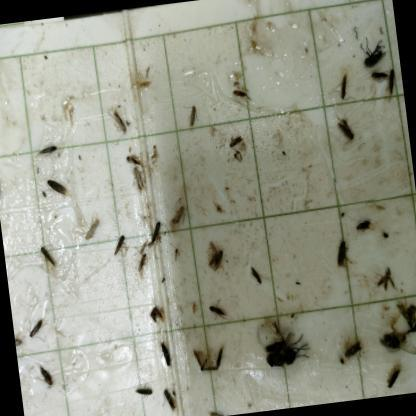prays_oleae: (373, 316, 416, 369), (328, 230, 354, 283), (334, 107, 358, 156), (41, 168, 70, 207), (189, 339, 218, 376), (375, 262, 398, 303), (166, 200, 192, 235), (37, 240, 60, 274), (34, 356, 58, 388), (209, 336, 229, 374), (126, 164, 148, 198), (106, 103, 127, 138), (338, 338, 366, 364), (145, 214, 168, 245), (79, 217, 104, 245), (208, 292, 228, 326), (158, 336, 176, 372), (336, 72, 356, 104), (353, 207, 374, 237), (212, 242, 233, 272), (110, 232, 132, 258), (384, 362, 406, 388), (382, 65, 401, 95), (161, 382, 179, 413), (122, 148, 145, 172), (232, 84, 252, 110), (248, 260, 265, 290), (135, 381, 156, 404), (186, 104, 202, 134), (371, 66, 389, 92), (23, 321, 50, 338), (226, 129, 246, 151), (132, 252, 151, 274), (35, 143, 60, 158), (13, 325, 24, 357), (201, 252, 220, 268), (205, 403, 227, 416)
